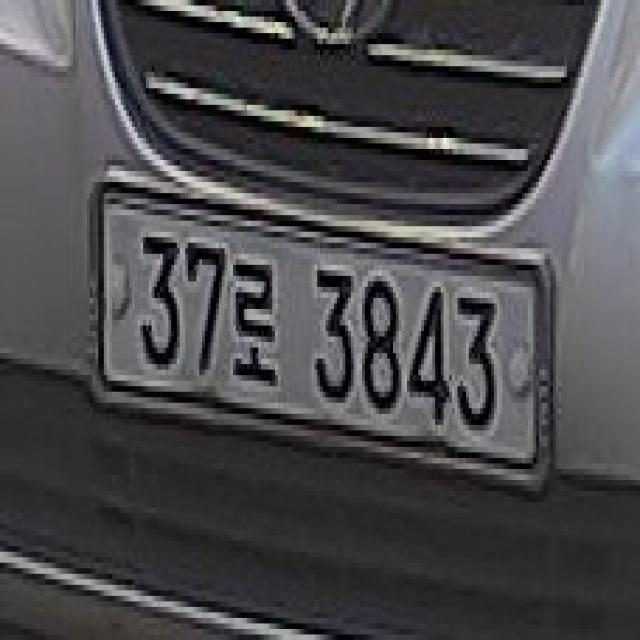3: (454, 292, 500, 430), (312, 265, 356, 403), (140, 232, 182, 375)
4: (401, 281, 452, 436)
7: (182, 237, 225, 381)
8: (356, 265, 402, 425)
license_plate: (93, 176, 550, 496)
lo: (230, 254, 278, 392)
